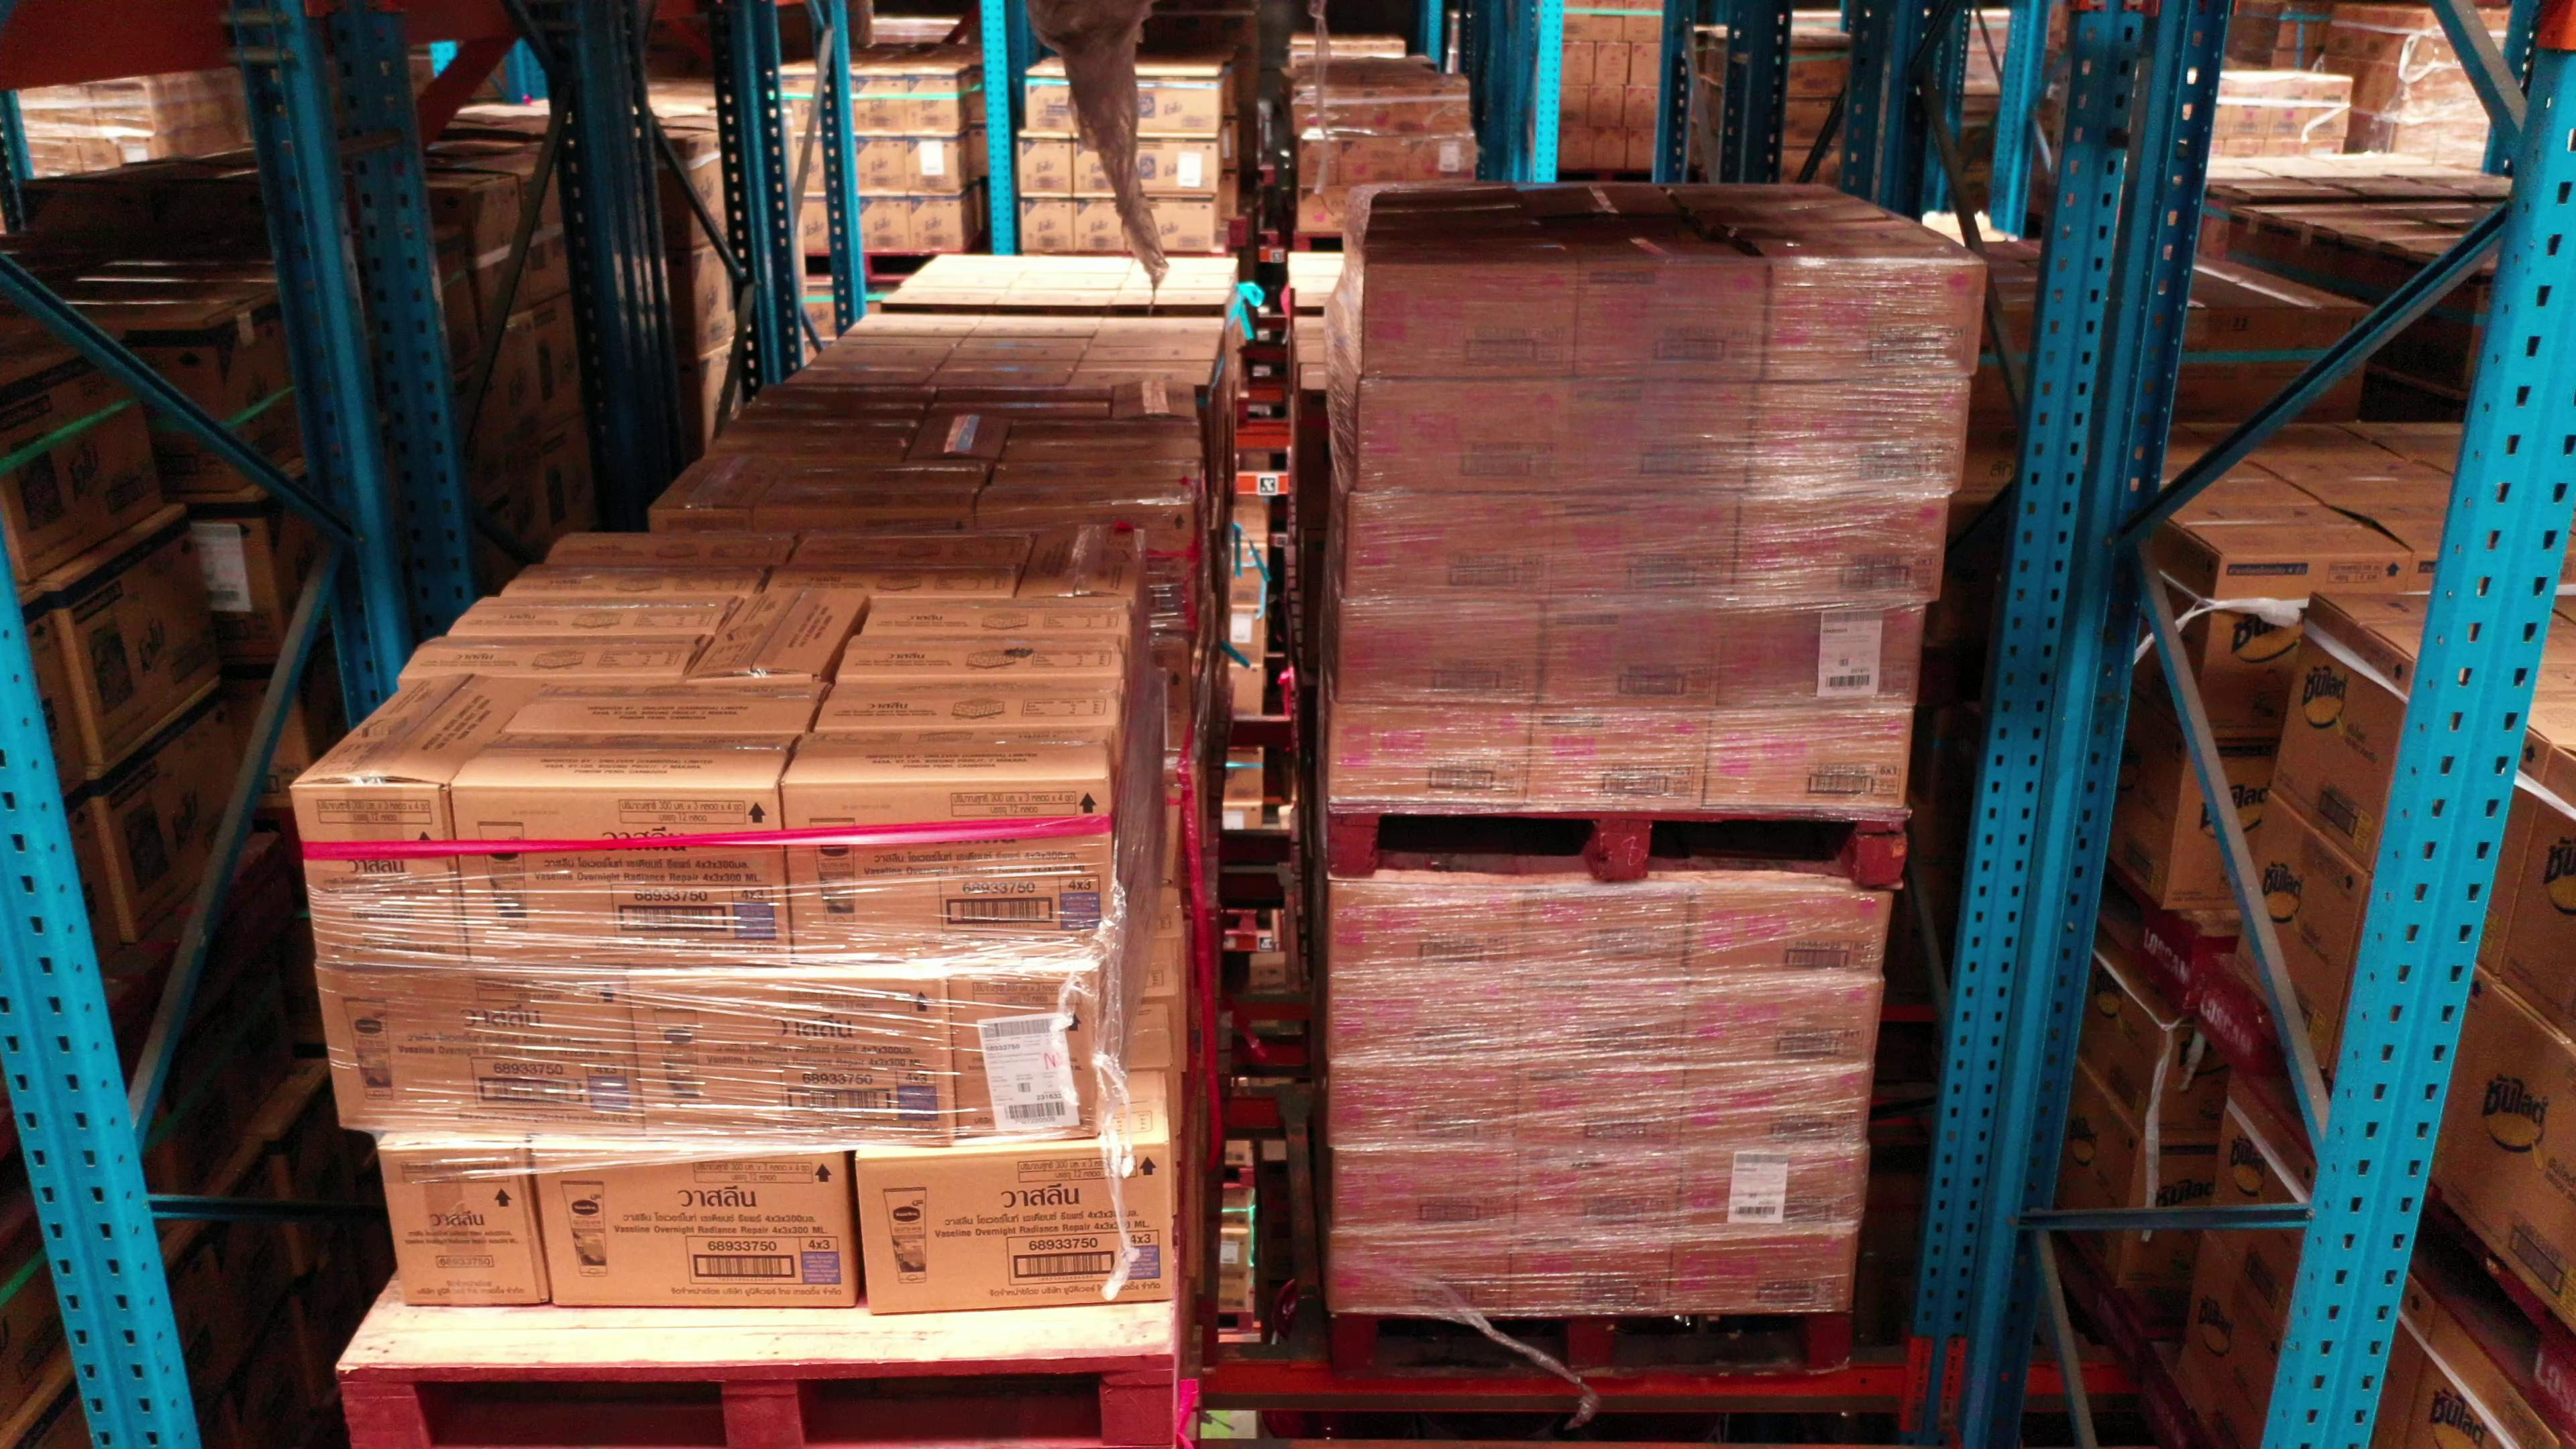-: (453, 789, 787, 973), (782, 782, 1108, 968), (318, 962, 646, 1139), (856, 1138, 1175, 1315), (630, 975, 950, 1148), (533, 1148, 853, 1309), (292, 786, 465, 966), (379, 1145, 547, 1306), (950, 975, 1099, 1143)
box: (1766, 262, 1985, 380), (1752, 382, 1971, 495), (1362, 264, 1578, 379), (1359, 373, 1569, 490), (1734, 492, 1950, 605), (1575, 262, 1771, 384), (1334, 596, 1543, 708), (1345, 487, 1553, 596), (1714, 602, 1928, 706), (1550, 488, 1739, 600), (1568, 379, 1757, 490), (1327, 701, 1532, 803), (1704, 704, 1909, 807), (1537, 598, 1730, 706), (1525, 702, 1711, 805), (1691, 888, 1897, 978), (1330, 881, 1527, 973), (1683, 978, 1882, 1069), (1332, 973, 1527, 1065), (1334, 1148, 1522, 1238), (1332, 1065, 1518, 1154), (1684, 1065, 1870, 1154), (1518, 1060, 1688, 1155), (1522, 971, 1688, 1069), (1683, 1148, 1867, 1233), (1523, 885, 1697, 973), (1670, 1226, 1861, 1306), (1516, 1145, 1683, 1233), (1330, 1233, 1511, 1315), (1511, 1224, 1674, 1313)
